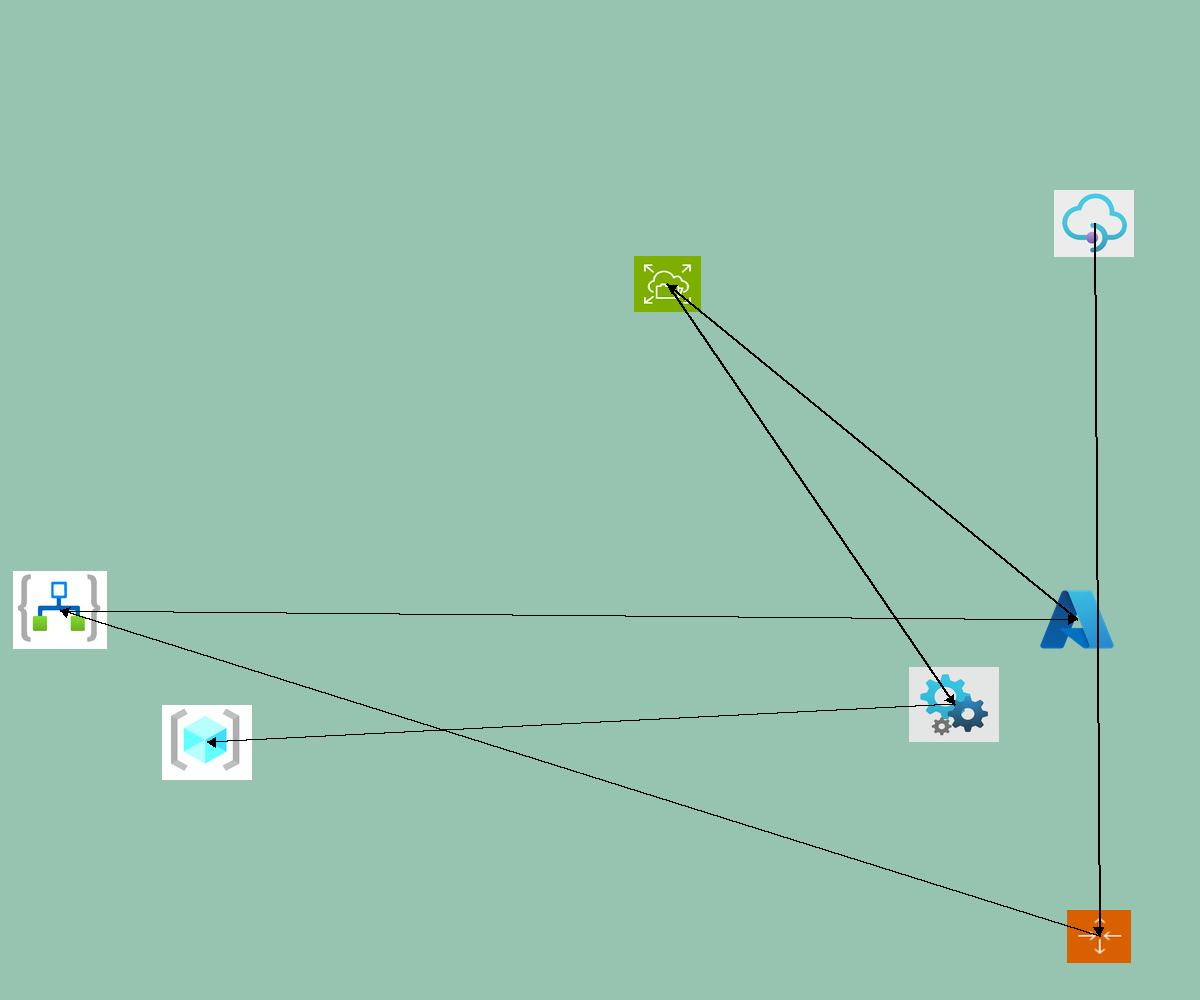AWS-EFS: (634, 256, 701, 312)
AWS-Scaling-group: (1067, 910, 1131, 963)
Azure_api: (909, 667, 999, 742)
Azure_api_gateway: (1054, 190, 1134, 257)
Azure_integration-204-Logic-Apps: (13, 571, 107, 649)
Azure_resource_group: (162, 705, 252, 780)
Azure_services: (1037, 586, 1117, 653)
